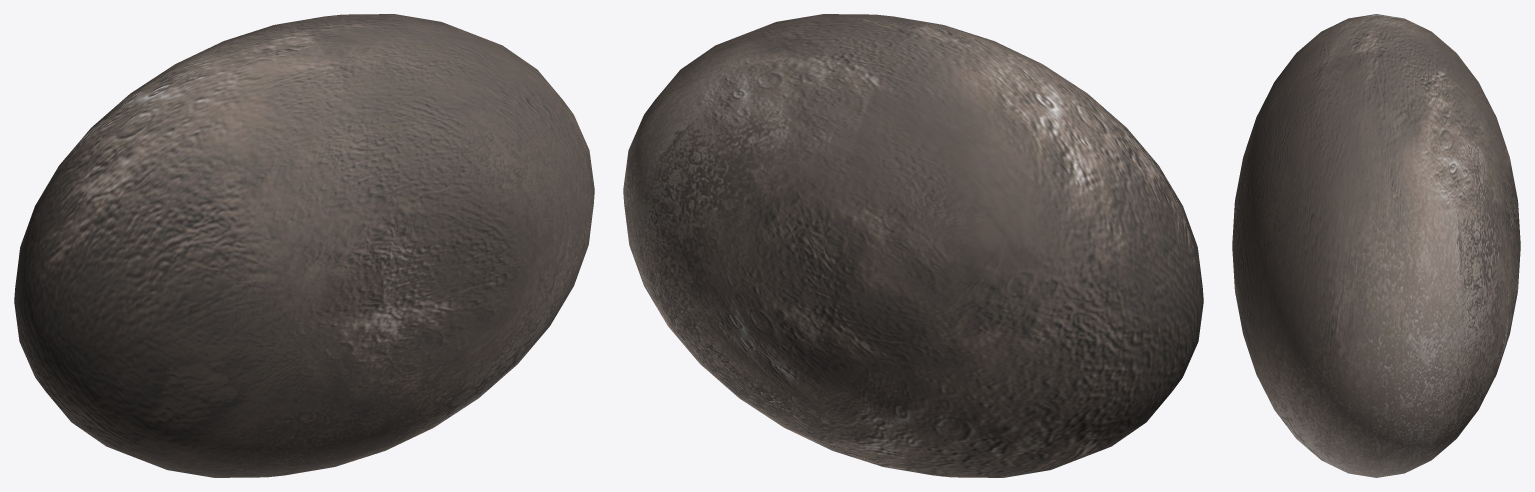
File: haumea.glb
3 views of the same model, side by side, from view 1: azimuth 30°, elevation 25°; view 2: azimuth 150°, elevation 25°; view 3: azimuth 270°, elevation 25° (orthographic). The views are drawn at different scales.
Parts seen in each view (by area): view 1: Haumea; view 2: Haumea; view 3: Haumea.
Part boxes in pixels (left/top/right/bottom): Haumea: left=14, top=14, right=594, bottom=477; Haumea: left=623, top=14, right=1203, bottom=477; Haumea: left=1232, top=14, right=1520, bottom=477.
Bounding box in the file's own units: 2322 × 1704 × 1138.
Materials: 1 (1 with a texture image).
